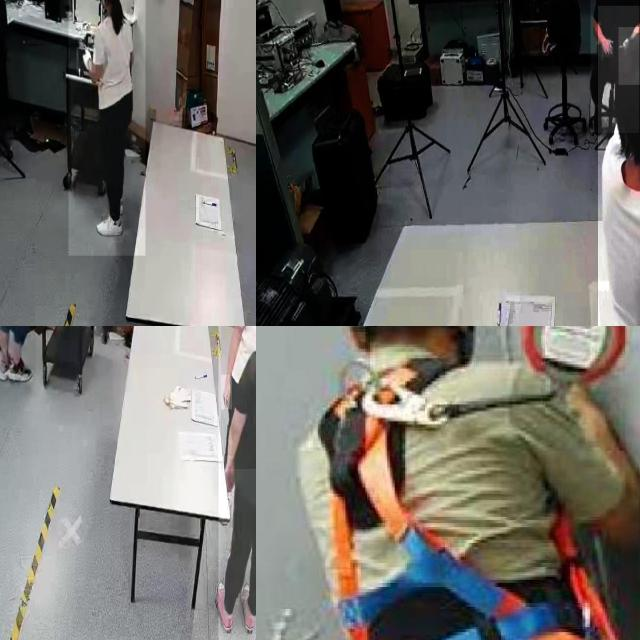Harness: (320, 363, 640, 640)
hand_glove: (76, 48, 95, 72)
hand_noglove: (223, 456, 235, 492), (221, 375, 233, 410), (598, 35, 614, 58)
head_nohelmet: (618, 27, 640, 85)
person: (68, 0, 145, 256), (218, 326, 256, 640), (590, 0, 639, 133), (221, 326, 256, 468)
shoes: (214, 575, 238, 636), (238, 576, 256, 638), (94, 210, 125, 240), (5, 356, 33, 388)
